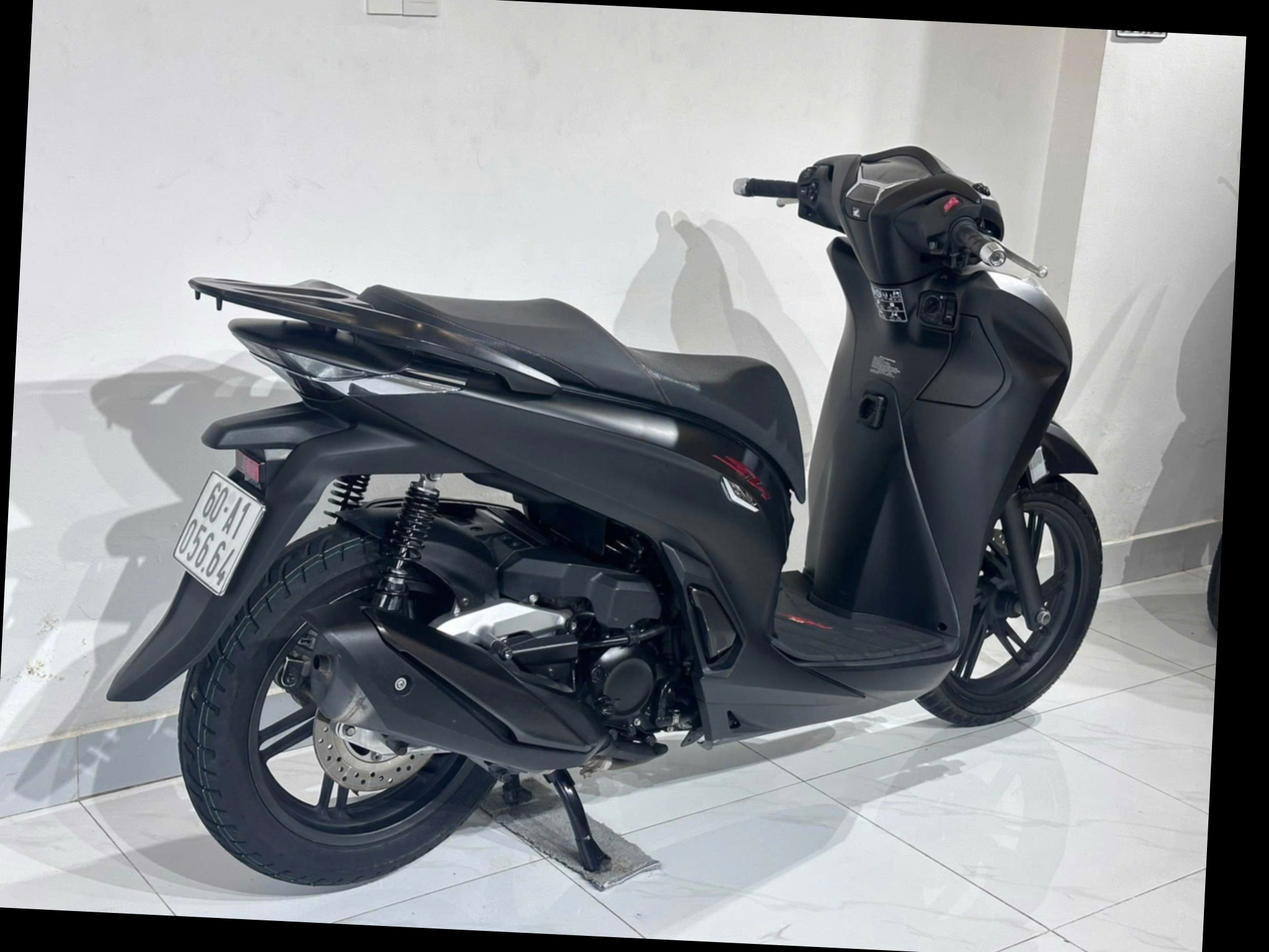Bien-so: (171, 470, 268, 604)
